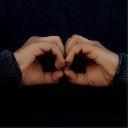hand: (63, 33, 120, 87), (13, 35, 65, 86)
